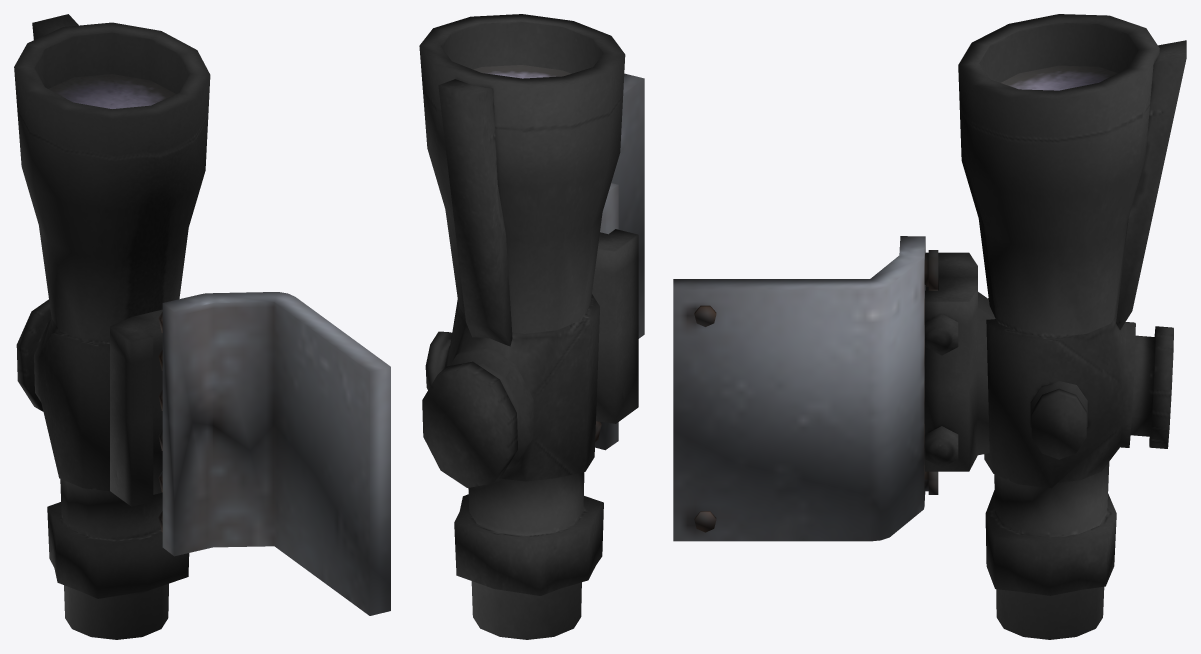
Rendered from TLOG_x2ScopeMount.fbx.
3 renders of one model, left to right at view 1: azimuth 30°, elevation 25°; view 2: azimuth 150°, elevation 25°; view 3: azimuth 270°, elevation 25°, orthographic. The views are drawn at different scales.
Parts seen in each view (by area): view 1: Cube.004; view 2: Cube.004; view 3: Cube.004.
Boxes of the visible parts, x1,y1,x2,y2 form: Cube.004: [14, 14, 390, 639]; Cube.004: [419, 14, 644, 639]; Cube.004: [673, 14, 1186, 639].
Size of the model in its own units: 0.03 by 0.0867 by 0.0709.
